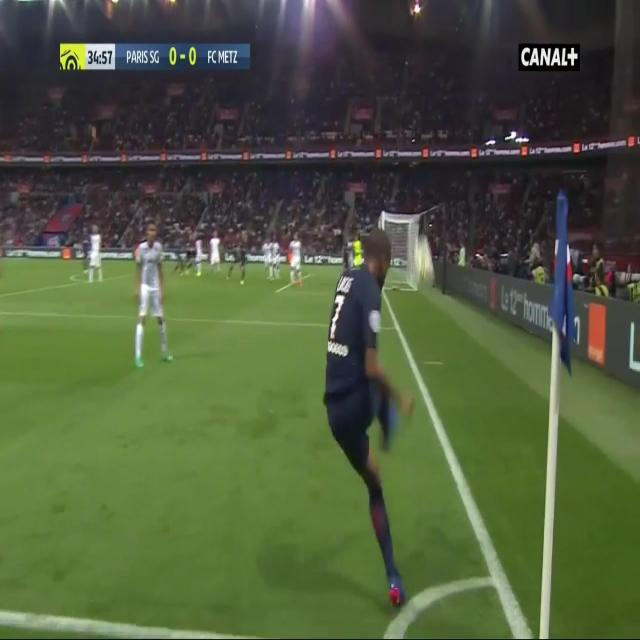Ball: (409, 232, 434, 288)
Goalkeeper: (350, 232, 362, 266)
Player: (324, 222, 415, 610), (130, 217, 173, 376), (86, 220, 104, 288), (225, 241, 247, 288), (288, 228, 303, 288), (209, 229, 223, 278), (194, 235, 204, 280), (274, 238, 282, 286)
